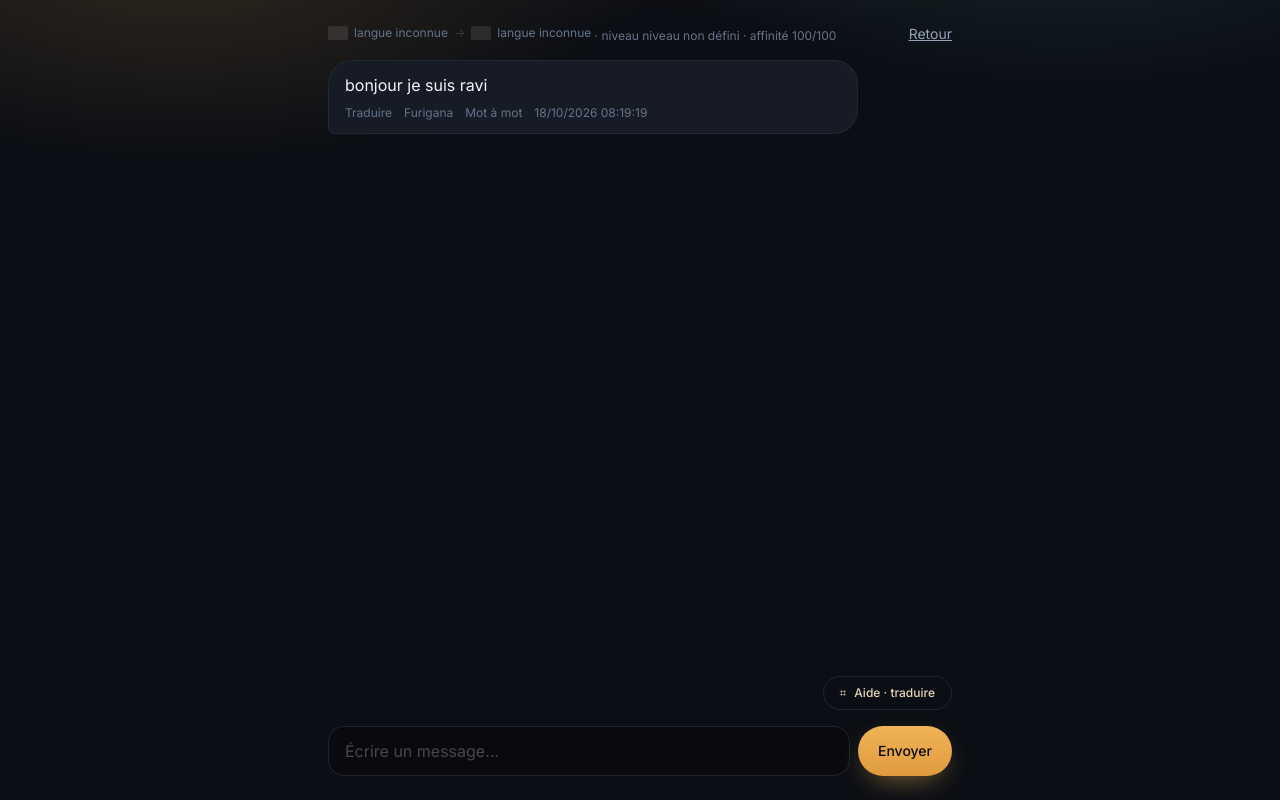
Test case: Fil de discussion › affiche la traduction à la demande avec le moteur utilisé
The image size is (1280, 800).
Click the button "Traduire" at (368, 113), box [345, 105, 392, 121]
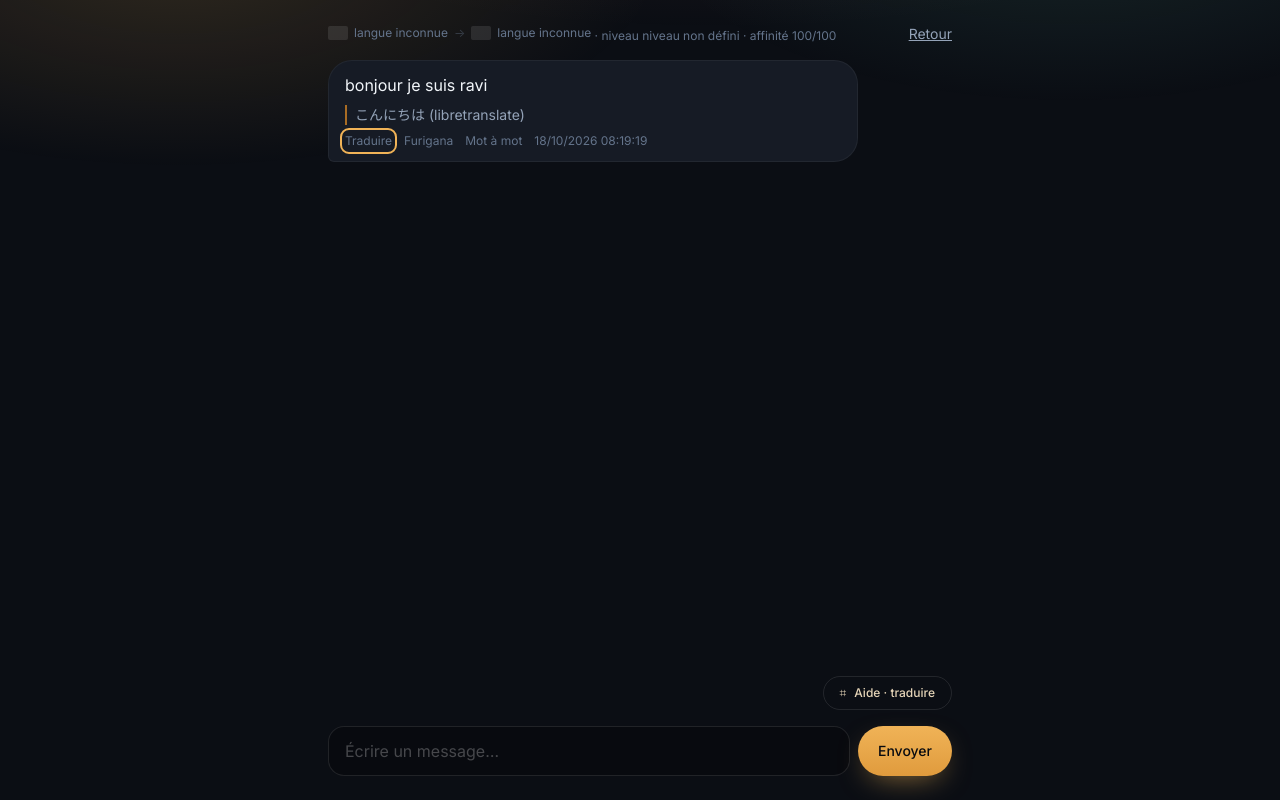
Now the text "こんにちは (libretranslate)" is shown, box [345, 105, 841, 125]
